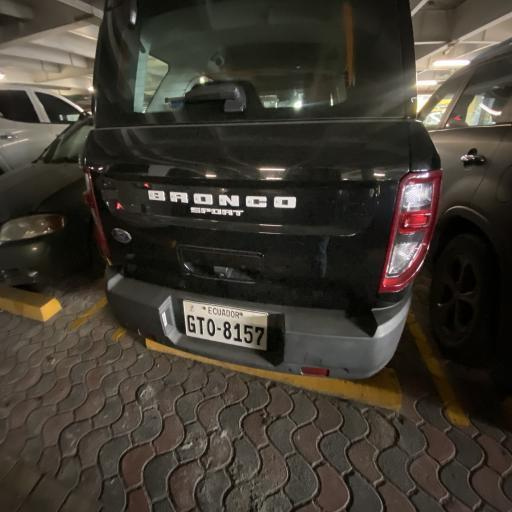license_plate: (254, 325, 265, 348), (243, 324, 254, 344), (186, 313, 196, 334), (196, 315, 206, 336), (206, 317, 216, 338), (233, 322, 243, 343), (222, 320, 232, 340)
